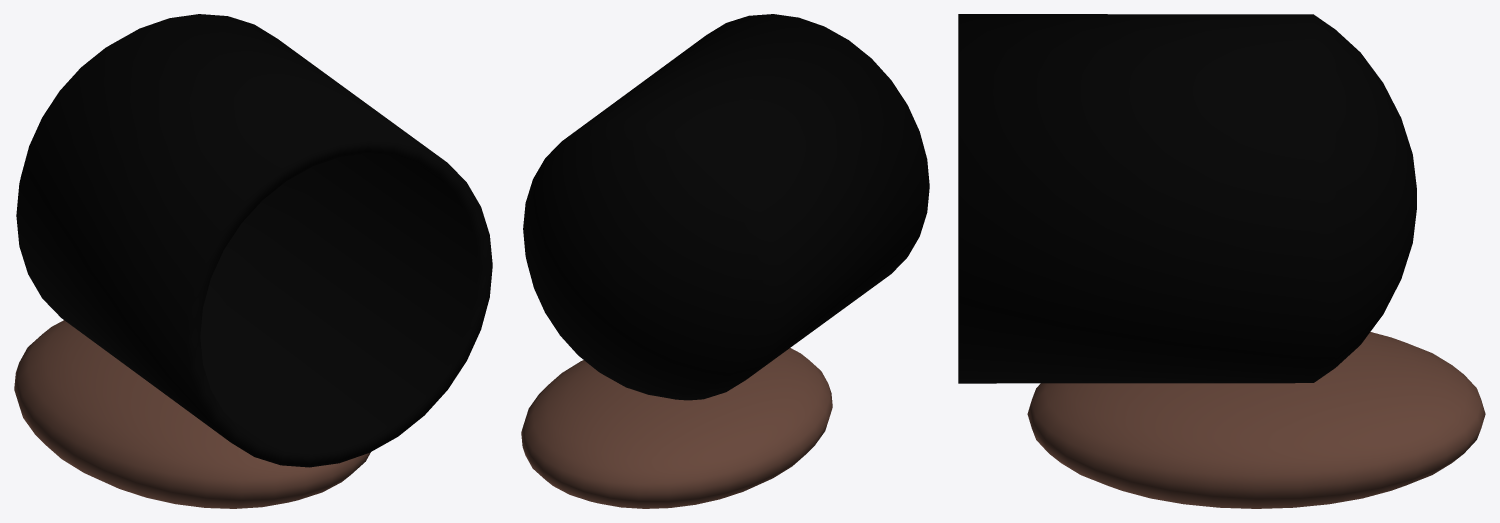
File: Cannon.fbx
The picture shows the model from 3 angles, left to right: view 1: azimuth 30°, elevation 25°; view 2: azimuth 150°, elevation 25°; view 3: azimuth 270°, elevation 25°; orthographic projection. The views are drawn at different scales.
Visible parts, largest first — view 1: Cannon, Sphere; view 2: Cannon, Sphere; view 3: Cannon, Sphere.
Part boxes in pixels (x1,y1,x2,y2): Cannon: (16,14,492,467); Sphere: (14,320,370,508); Cannon: (523,14,929,400); Sphere: (521,348,832,508); Cannon: (958,14,1416,383); Sphere: (1027,332,1485,508).
Bounding box in the file's own units: 210 × 277 × 299.
